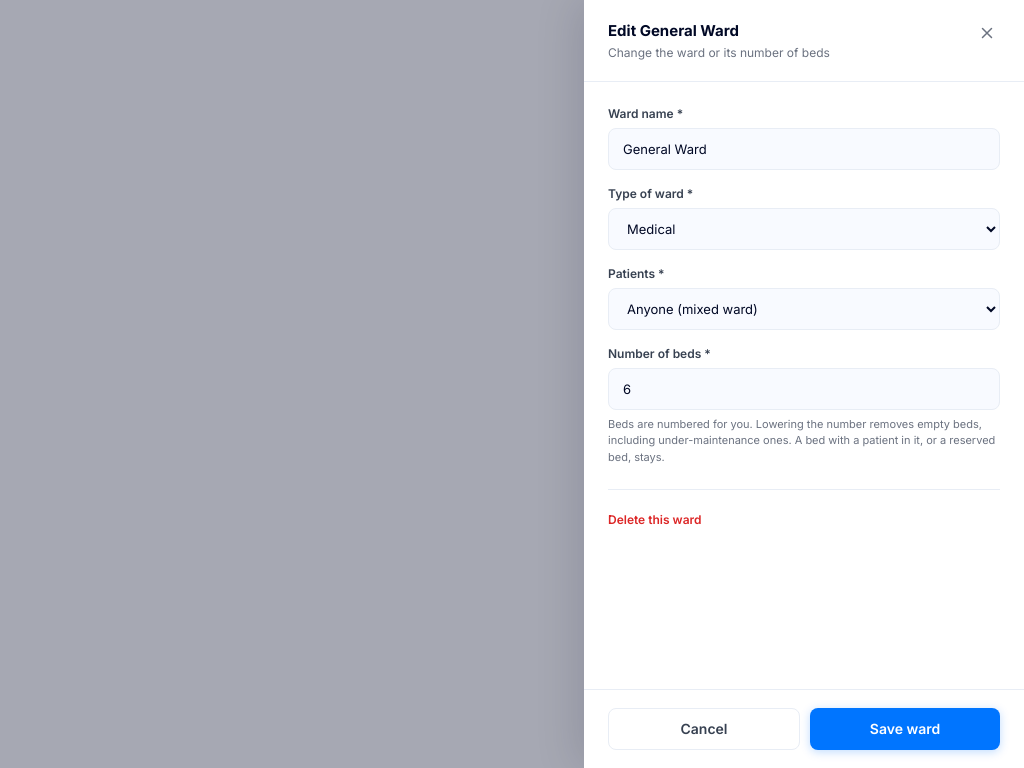
Test: FLAG-072 — edit and delete a ward › shows the backend’s refusal when fewer beds would remove an occupied one
Replace the text in the number field with id "ward-total-beds" with "2" at (804, 388), box top-left (608, 368), bottom-right (1000, 410)
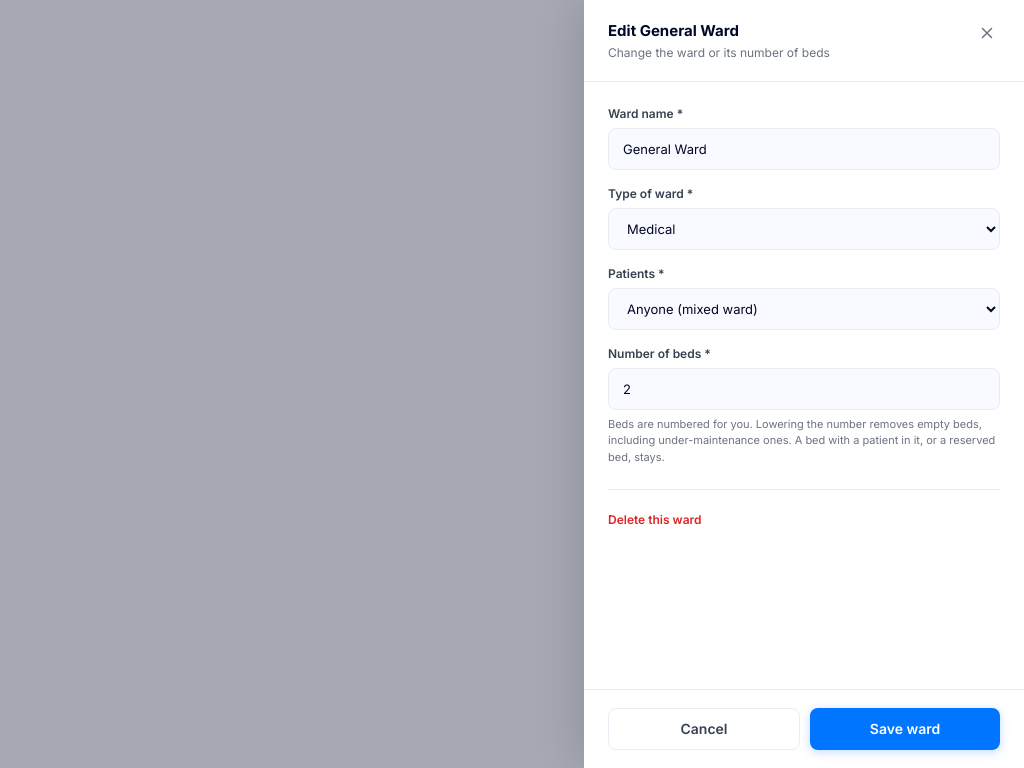
Click the button "Save ward" at (905, 729), box top-left (810, 708), bottom-right (1000, 750)
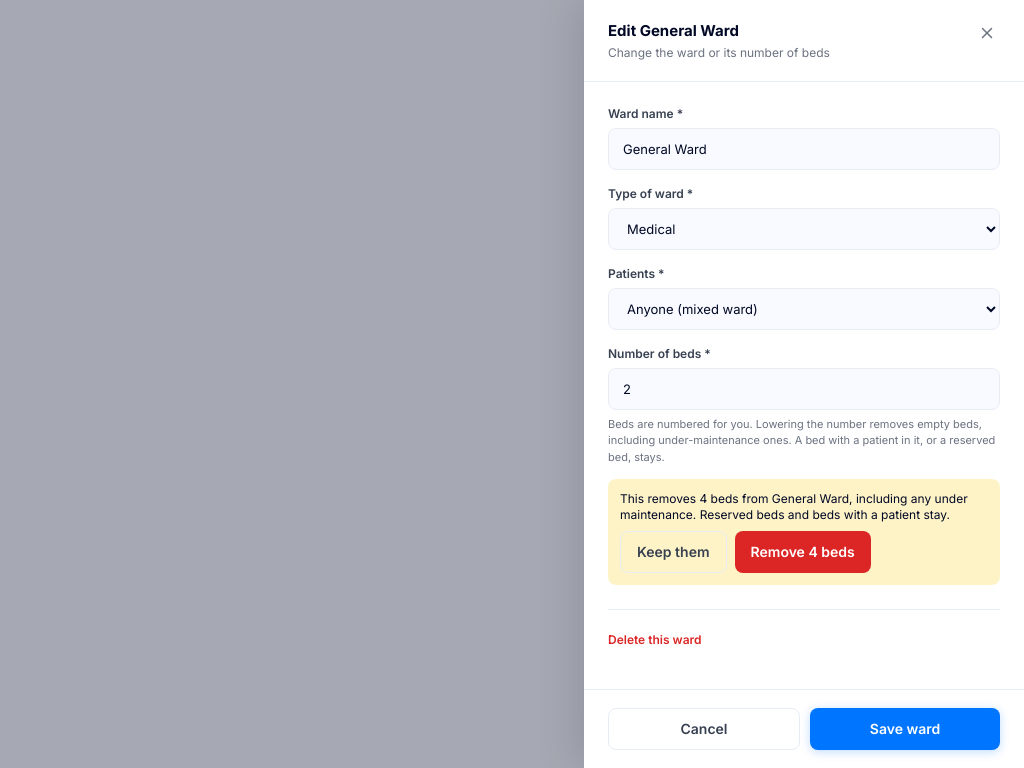
Click the button "Remove 4 beds" at (803, 552), box top-left (734, 531), bottom-right (871, 573)
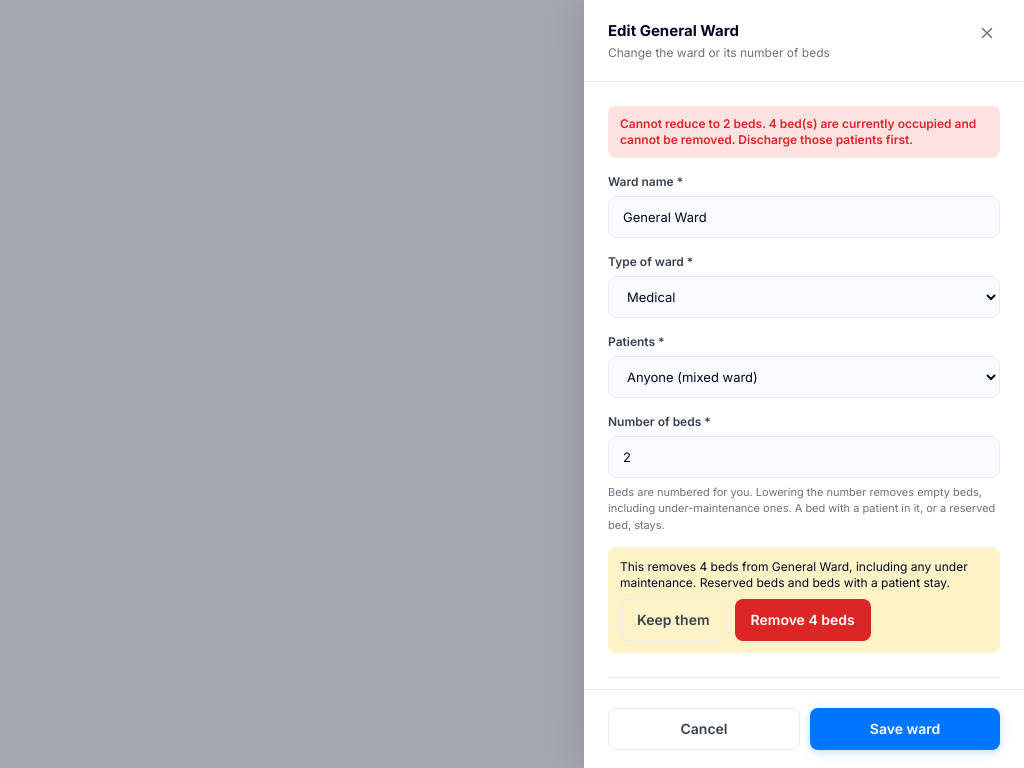
Expected: the message shows "Cannot reduce to 2 beds. 4 bed(s) are currently occupied and cannot be removed. Discharge those patients first.", top-left (620, 116), bottom-right (976, 146)
